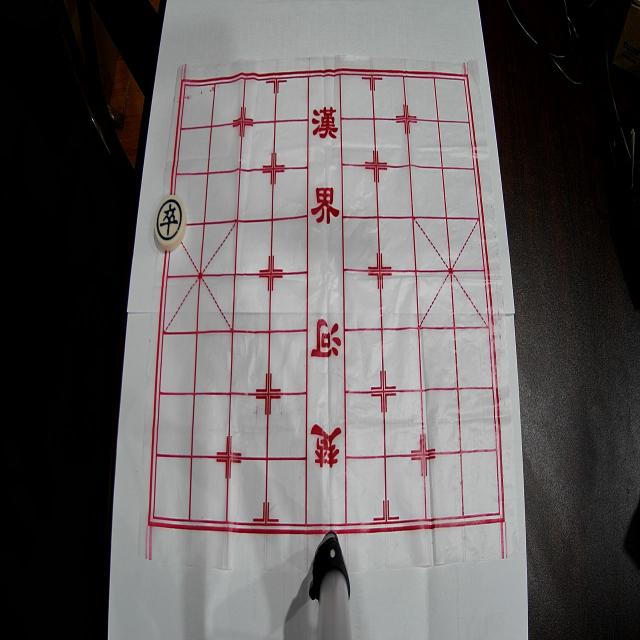black-soldier: (154, 195, 187, 250)
